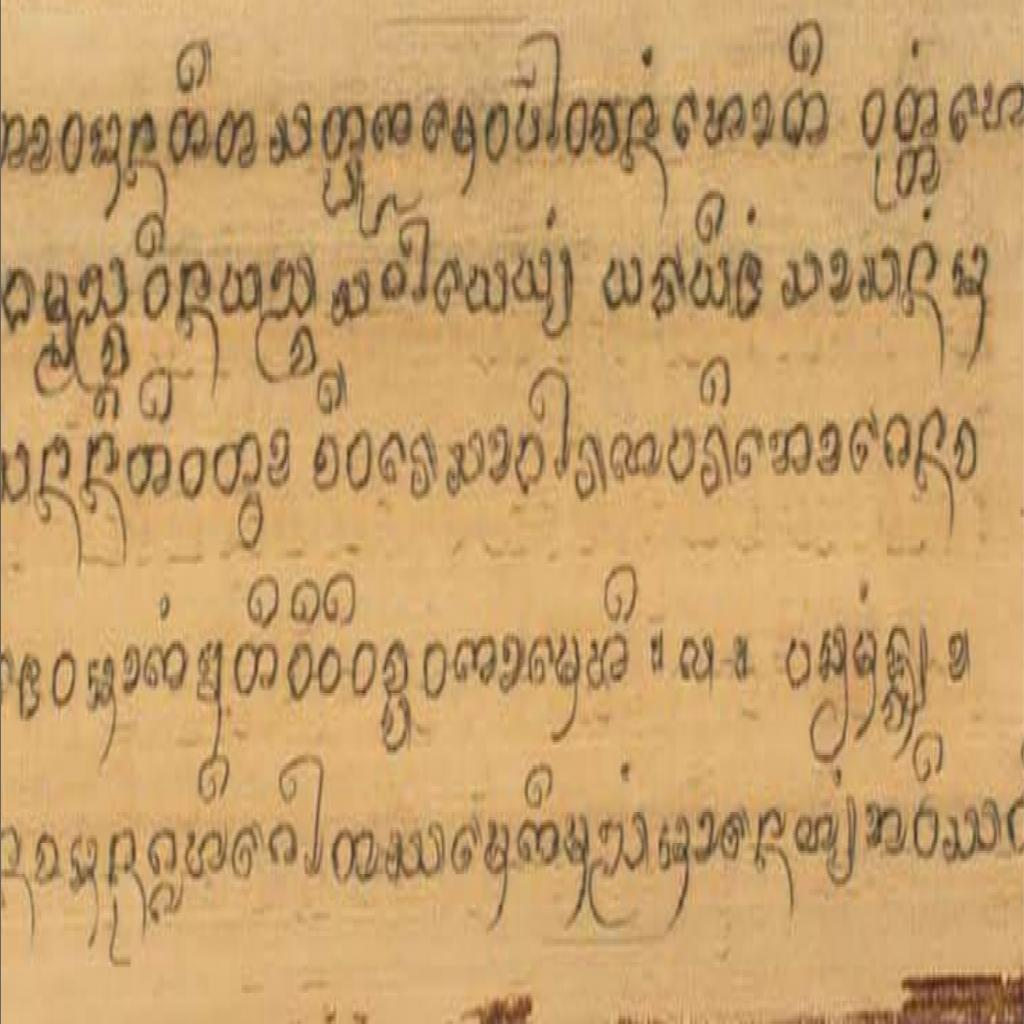LN032: (600, 247, 646, 322)
